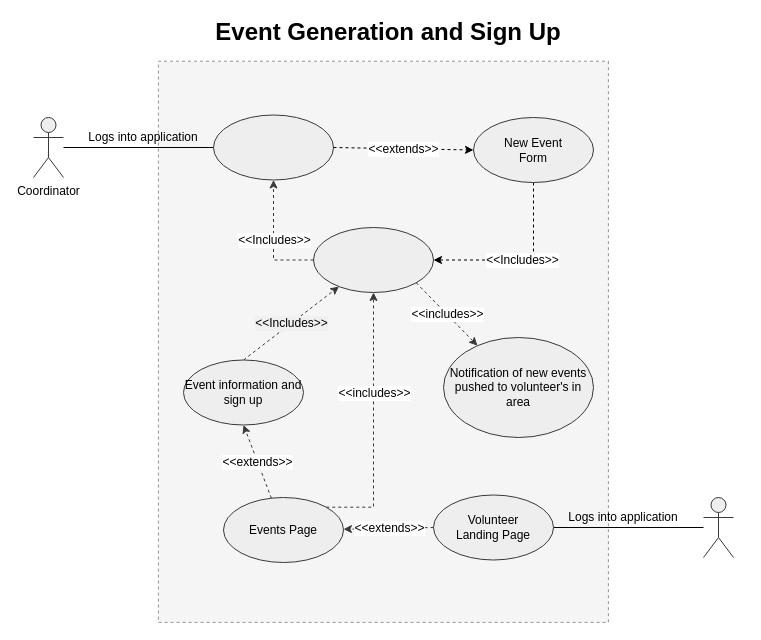
Image size: 761x640. Some labels were removed from this diagram. Each missing label, with the box of its shape:
Events Table in Serve Central DB: (312, 226, 434, 292)
Organization Landing Page: (212, 114, 334, 180)
Volunteer: (702, 496, 734, 558)
